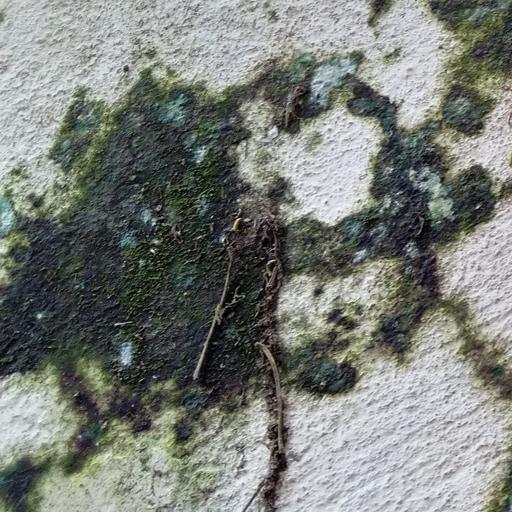algae: (7, 30, 512, 466)
